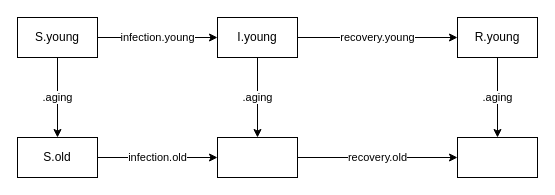
Image size: 555x195. Some labels were removed from this diagram. The centre of each missing label's shape, as x and y in pixels:
I.old: [257,157]
R.old: [497,157]
